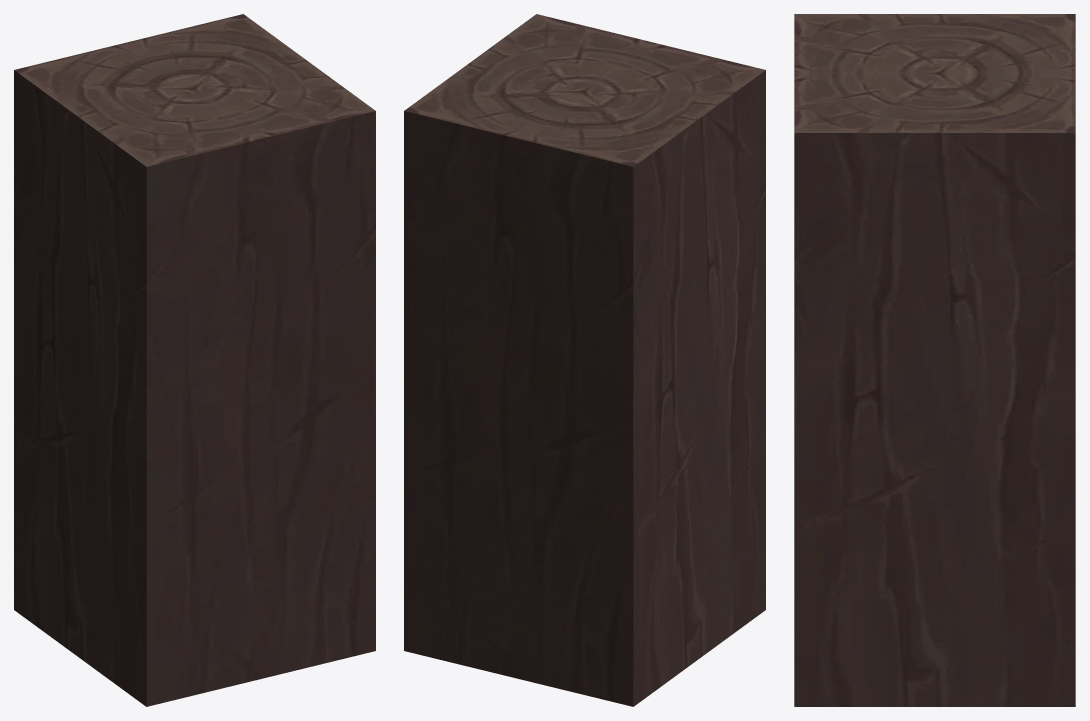
3 views of the same model, side by side, from view 1: azimuth 30°, elevation 25°; view 2: azimuth 150°, elevation 25°; view 3: azimuth 270°, elevation 25° (orthographic). The views are drawn at different scales.
Bounding box in the file's own units: 0.4444 × 1 × 0.4444.
Materials: 1 (1 with a texture image).
